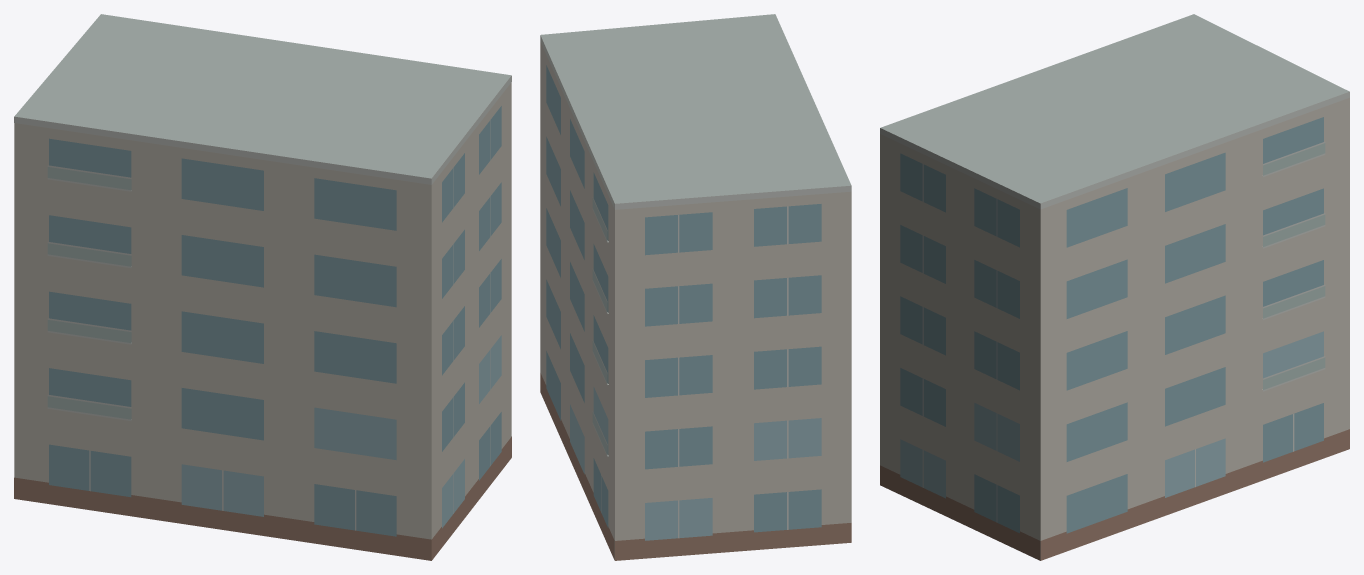
File: survey-upis-32766380.glb
3 views of the same model, side by side, from view 1: azimuth 30°, elevation 25°; view 2: azimuth 150°, elevation 25°; view 3: azimuth 270°, elevation 25° (orthographic). The views are drawn at different scales.
Parts seen in each view (by area): view 1: survey-upis-32766380.tmp; view 2: survey-upis-32766380.tmp; view 3: survey-upis-32766380.tmp.
Boxes of the visible parts, x1,y1,x2,y2 form: survey-upis-32766380.tmp: [14, 14, 511, 560]; survey-upis-32766380.tmp: [540, 14, 851, 560]; survey-upis-32766380.tmp: [880, 14, 1349, 560].
Size of the model in its own units: 16.5 by 14.5 by 17.28.
